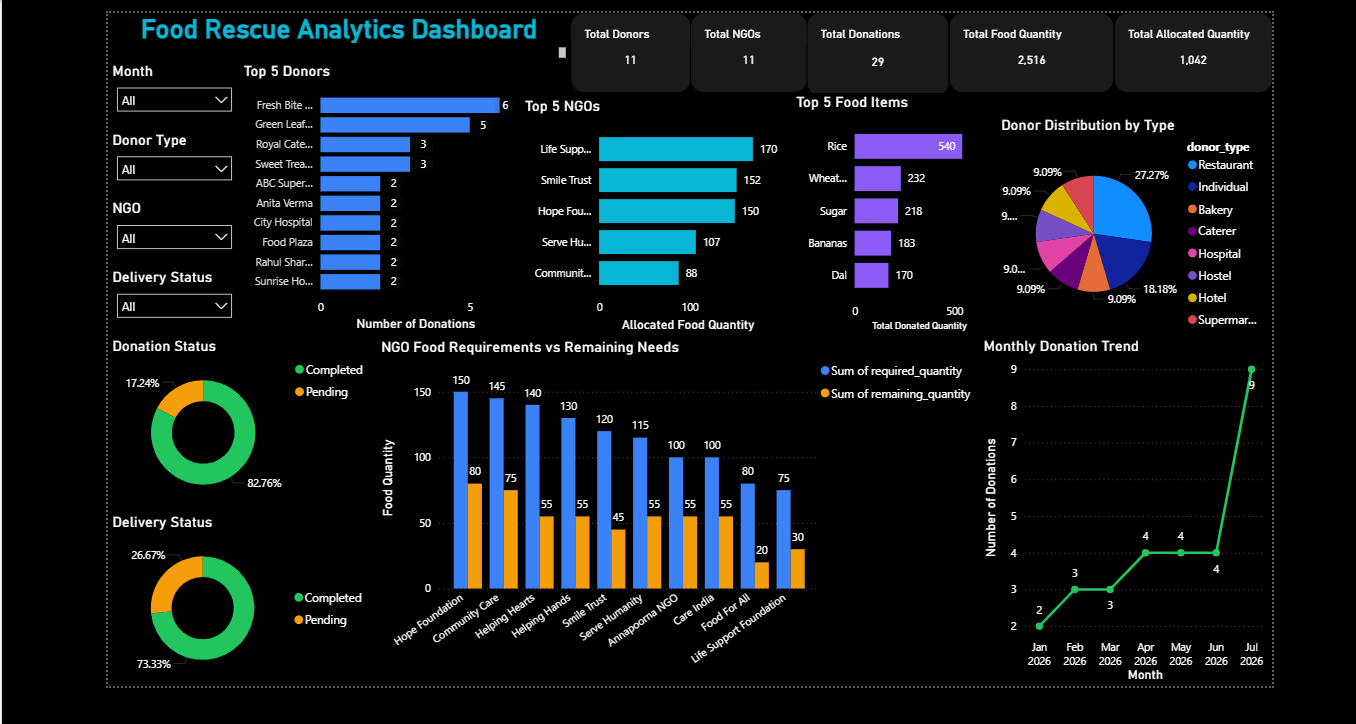

Layout of this report page (visuals, bound fields, positions):
{"tool":"powerbi","page":{"name":"Page 1","canvas":[1330,770],"ordinal":0},"visuals":[{"type":"card","title":"Total Donors","fields":{"Values":["CountNonNull(food_rescue_intelligence donor.donor_id)"]},"box":[528.3,0,137.3,91.5],"z":0},{"type":"card","title":"Total NGOs","fields":{"Values":["CountNonNull(food_rescue_intelligence ngo.ngo_id)"]},"box":[665.6,0,133.4,91.5],"z":1000},{"type":"card","title":"Total Donations","fields":{"Values":["CountNonNull(food_rescue_intelligence donation.donation_id)"]},"box":[799,0,162.2,95.5],"z":2000},{"type":"card","title":"Total Food Quantity","fields":{"Values":["Sum(food_rescue_intelligence donation_item.quantity)"]},"box":[961.2,0,188.3,91.5],"z":3000},{"type":"card","title":"Total Allocated Quantity","fields":{"Values":["Sum(food_rescue_intelligence donation_allocation.allocated_quantity)"]},"box":[1149.5,0,180.5,91.5],"z":4000},{"type":"clusteredBarChart","title":"Top 5 Donors","fields":{"Category":["food_rescue_intelligence donor.donor_name"],"Y":["CountNonNull(food_rescue_intelligence donation.donation_id)"]},"box":[150.4,56.2,320.4,312.6],"z":5000},{"type":"donutChart","title":"Donation Status","fields":{"Category":["food_rescue_intelligence donation.status"],"Y":["CountNonNull(food_rescue_intelligence donation.donation_id)"]},"box":[0,370,306,199.9],"z":6000},{"type":"clusteredBarChart","title":"Top 5 Food Items","fields":{"Category":["food_rescue_intelligence food_item.food_name"],"Y":["Sum(food_rescue_intelligence donation_item.quantity)"]},"box":[780.8,91.1,235.3,277.5],"z":7000},{"type":"clusteredBarChart","title":"Top 5 NGOs","fields":{"Category":["food_rescue_intelligence ngo.ngo_name"],"Y":["Sum(food_rescue_intelligence donation_allocation.allocated_quantity)"]},"box":[470.8,95.5,308.6,273.3],"z":8000},{"type":"lineChart","title":"Monthly Donation Trend","fields":{"Category":["food_rescue_intelligence donation.month year"],"Y":["CountNonNull(food_rescue_intelligence donation.donation_id)"]},"box":[995.7,370,334.6,399.9],"z":9000},{"type":"clusteredColumnChart","title":"NGO Food Requirements vs Remaining Needs","fields":{"Category":["food_rescue_intelligence ngo.ngo_name"],"Y":["Sum(food_rescue_intelligence ngo_requirement.required_quantity)","Sum(food_rescue_intelligence ngo_requirement.remaining_quantity)"]},"box":[307.4,371.3,692.3,398.5],"z":10000},{"type":"pieChart","title":"Donor Distribution by Type","fields":{"Category":["food_rescue_intelligence donor.donor_type"],"Y":["CountNonNull(food_rescue_intelligence donor.donor_id)"]},"box":[1016.1,117,314.2,251.6],"z":11000},{"type":"donutChart","title":"Delivery Status ","fields":{"Category":["food_rescue_intelligence delivery.delivery_status"],"Y":["CountNonNull(food_rescue_intelligence delivery.delivery_id)"]},"box":[0,571.3,304.7,198.6],"z":12000},{"type":"slicer","title":"Month","fields":{"Values":["food_rescue_intelligence donation.month year"]},"box":[0,56.3,151.9,78.5],"z":13000},{"type":"slicer","title":"Donor Type","fields":{"Values":["food_rescue_intelligence donor.donor_type"]},"box":[0,134.8,151.9,78.5],"z":14000},{"type":"slicer","title":"NGO","fields":{"Values":["food_rescue_intelligence ngo.ngo_name"]},"box":[0,213.4,151.9,78.5],"z":15000},{"type":"slicer","title":"Delivery Status","fields":{"Values":["food_rescue_intelligence delivery.delivery_status"]},"box":[0,291.9,151.9,78.5],"z":16000},{"type":"textbox","title":"Food Rescue Analytics Dashboard","box":[0,0,528.3,56.2],"z":17000}]}

Visuals, with their boxes on the page's 1330x770 design canvas (x1, y1, x2, y2). These are canvas units, not pixel positions in the 1356x724 screenshot, which may show the page scaled, cropped or inside an application window:
"Total Donors" card: <region>528, 0, 666, 92</region>
"Total NGOs" card: <region>666, 0, 799, 92</region>
"Total Donations" card: <region>799, 0, 961, 96</region>
"Total Food Quantity" card: <region>961, 0, 1150, 92</region>
"Total Allocated Quantity" card: <region>1150, 0, 1330, 92</region>
"Top 5 Donors" clusteredBarChart: <region>150, 56, 471, 369</region>
"Donation Status" donutChart: <region>0, 370, 306, 570</region>
"Top 5 Food Items" clusteredBarChart: <region>781, 91, 1016, 369</region>
"Top 5 NGOs" clusteredBarChart: <region>471, 96, 779, 369</region>
"Monthly Donation Trend" lineChart: <region>996, 370, 1330, 770</region>
"NGO Food Requirements vs Remaining Needs" clusteredColumnChart: <region>307, 371, 1000, 770</region>
"Donor Distribution by Type" pieChart: <region>1016, 117, 1330, 369</region>
"Delivery Status " donutChart: <region>0, 571, 305, 770</region>
"Month" slicer: <region>0, 56, 152, 135</region>
"Donor Type" slicer: <region>0, 135, 152, 213</region>
"NGO" slicer: <region>0, 213, 152, 292</region>
"Delivery Status" slicer: <region>0, 292, 152, 370</region>
"Food Rescue Analytics Dashboard" textbox: <region>0, 0, 528, 56</region>
